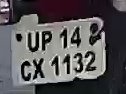1: (47, 55, 62, 76), (58, 26, 69, 51), (63, 53, 73, 74)
2: (82, 48, 97, 72)
3: (74, 52, 84, 75)
4: (69, 26, 83, 49)
C: (21, 59, 32, 83)
P: (40, 30, 54, 53)
U: (26, 31, 41, 55)
X: (31, 58, 45, 81)
